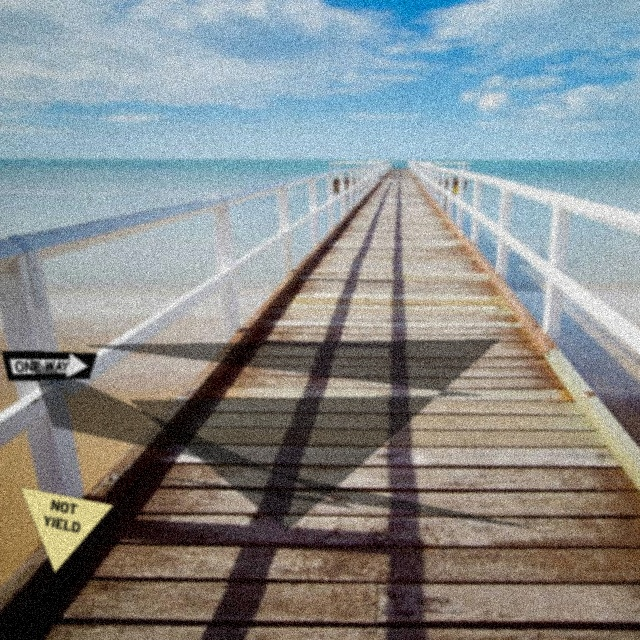NOT_YIELD: (19, 486, 115, 574)
ONE_WAY_ right: (1, 350, 97, 381)
